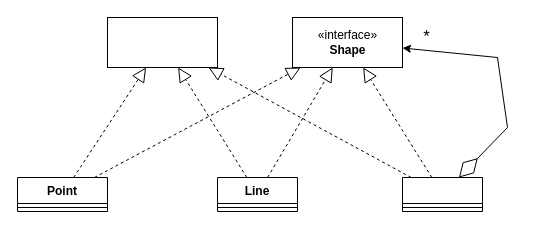
The diagram is 551 pixels wide and 229 high, and some of its shapes have lost their labels. Each missing label, with the centre of its shape:
"Group" goes at pixel 442 194.
"«interface» Prototype" goes at pixel 162 42.
